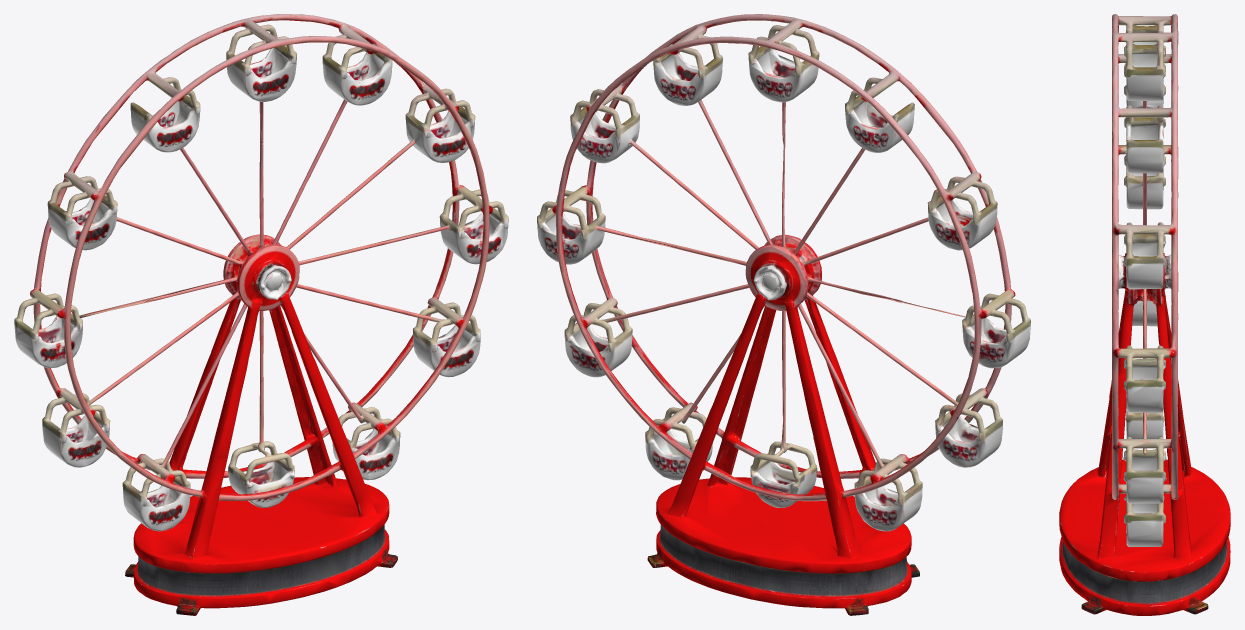
The model's file is Meshy_AI_very_simple_ferris_wh_0429170512_texture.fbx.
3 renders of one model, left to right at view 1: azimuth 30°, elevation 25°; view 2: azimuth 150°, elevation 25°; view 3: azimuth 270°, elevation 25°, orthographic.
Parts seen in each view (by area): view 1: Mesh_0; view 2: Mesh_0; view 3: Mesh_0.
Part boxes in pixels (bbox=[...]): Mesh_0: bbox=[14, 14, 508, 615]; Mesh_0: bbox=[537, 14, 1030, 615]; Mesh_0: bbox=[1059, 14, 1230, 615].
Bounding box in the file's own units: 177 × 191 × 56.19.
Materials: 1 (1 with a texture image).
